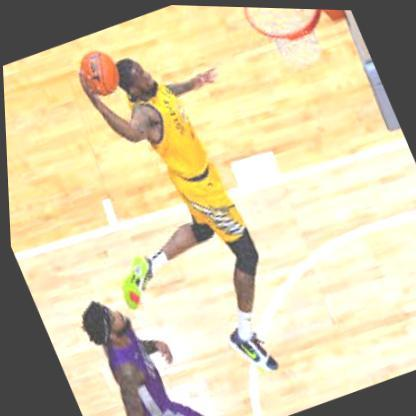basketball: (73, 45, 125, 101)
rim: (228, 5, 334, 56)
